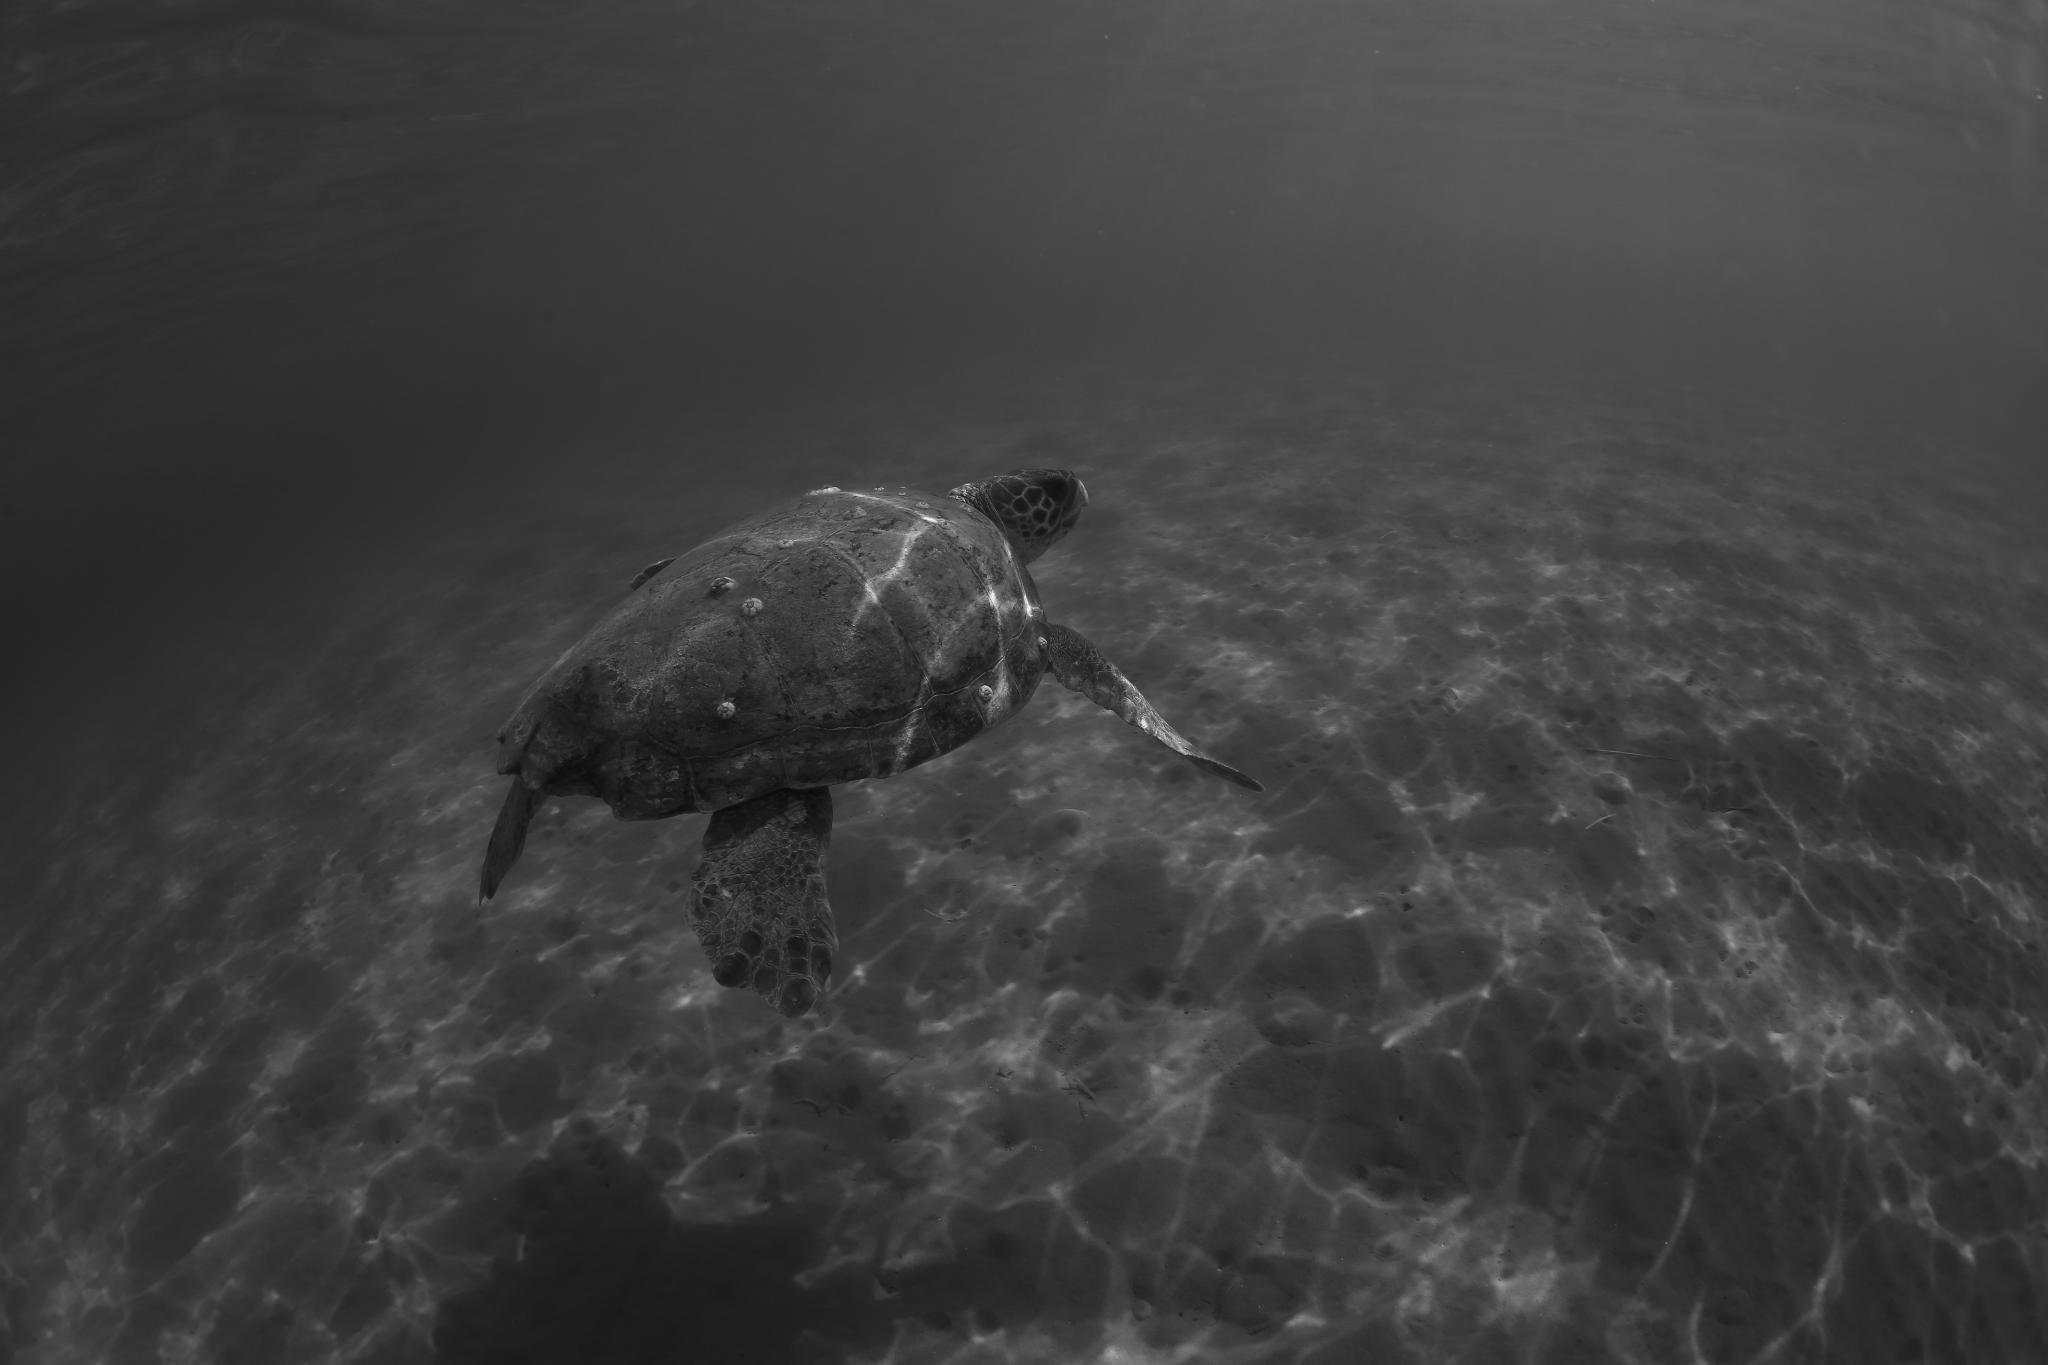Head: (949, 469, 1088, 565)
